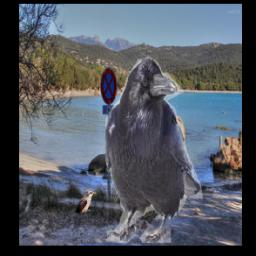Crow: (105, 56, 203, 244)
Cuckoo: (76, 190, 97, 213)
